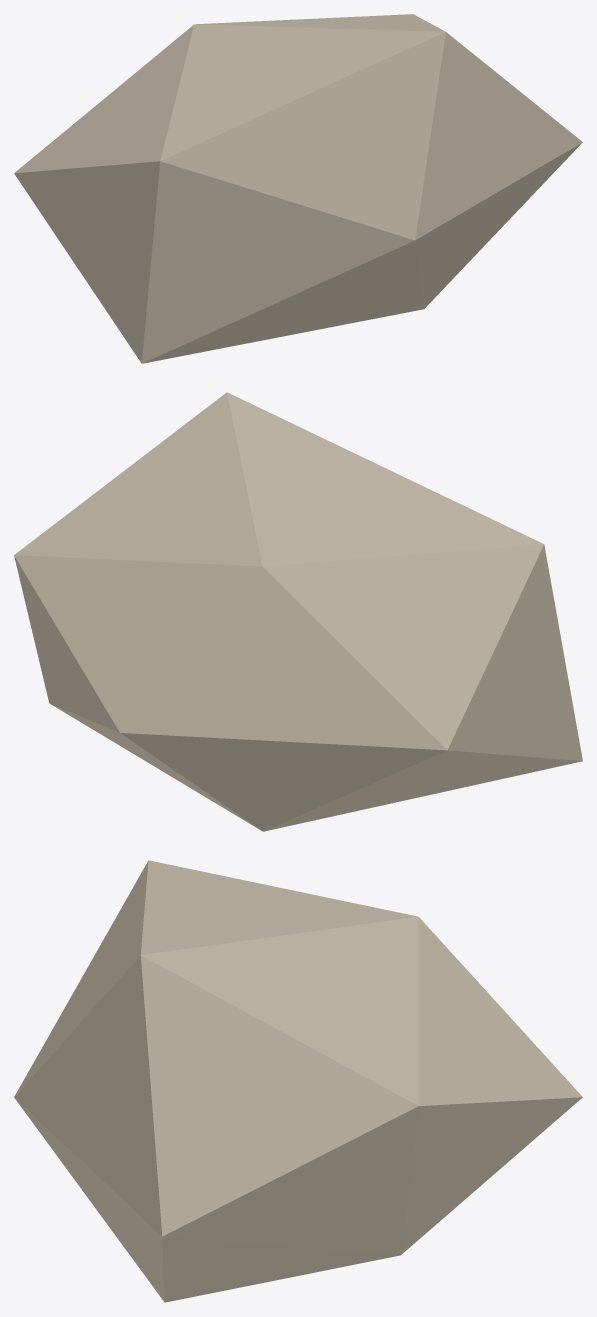
The model's file is palerock_1.glb.
3 views of the same model, one above another, from view 1: azimuth 30°, elevation 25°; view 2: azimuth 150°, elevation 25°; view 3: azimuth 270°, elevation 25° (orthographic). The views are drawn at different scales.
Parts seen in each view (by area): view 1: palerock_1; view 2: palerock_1; view 3: palerock_1.
Boxes of the visible parts, x1,y1,x2,y2 form: palerock_1: (14, 14, 582, 363); palerock_1: (14, 392, 582, 831); palerock_1: (14, 860, 582, 1302).
Size of the model in its own units: 1.77 by 1.04 by 1.51.
